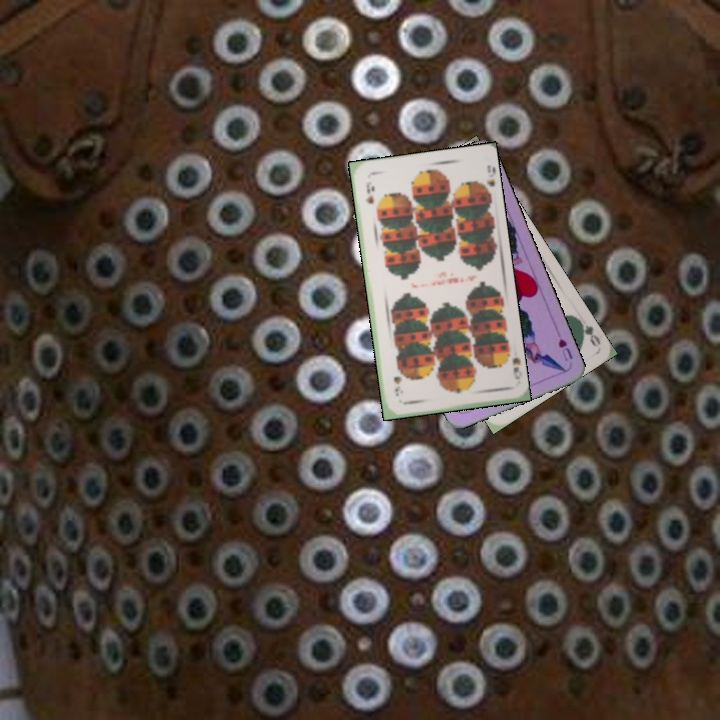GO: (572, 313, 603, 349)
HU: (554, 334, 576, 364)
S9: (500, 346, 523, 382), (362, 178, 377, 207)
